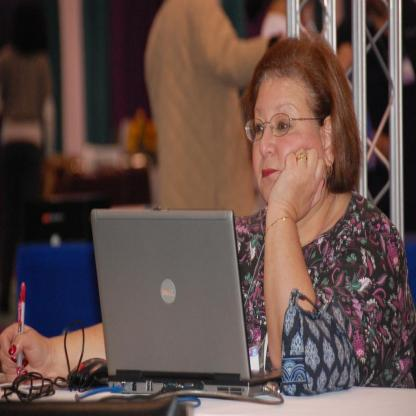board: (91, 206, 282, 398)
